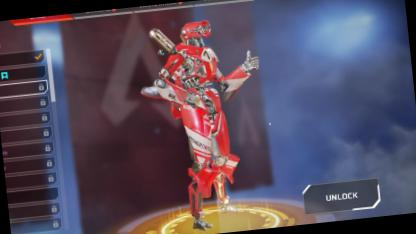Target: (164, 17, 236, 190)
